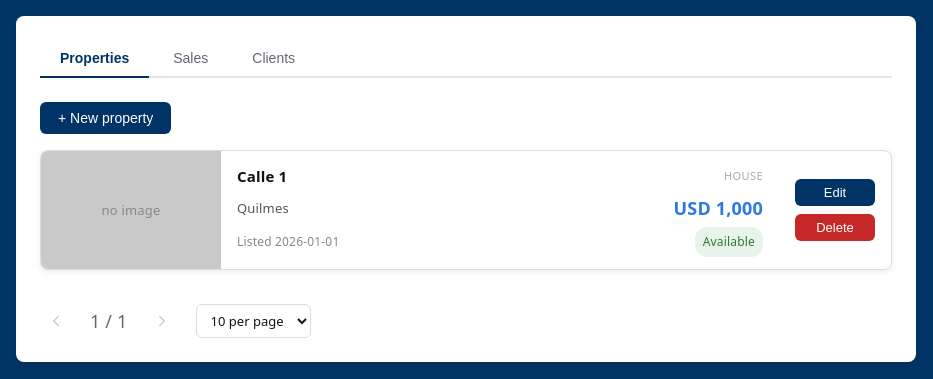
Test: AgencyDashboardPage › switches to the clients tab
The image size is (933, 379).
Click the button with test id "tab-clients". click: click(274, 59)
box: [232,40,315,78]
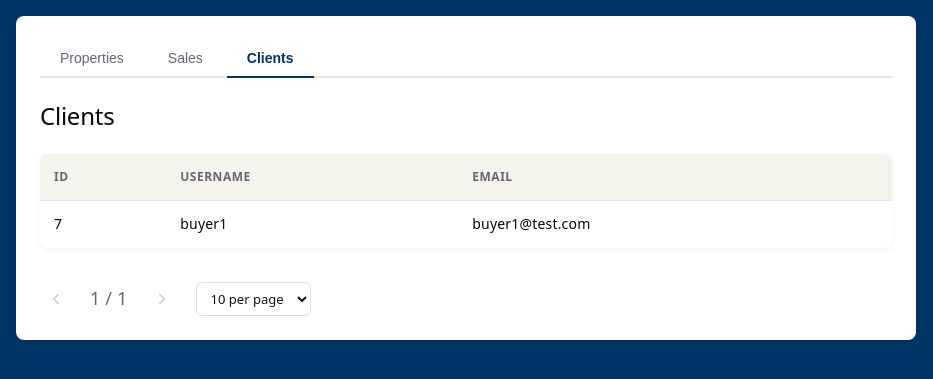
Check: the table with test id "clients-list" is shown, box [40,154,892,248]
Check: the text "buyer1@test.com" is shown, box [458,201,892,248]
